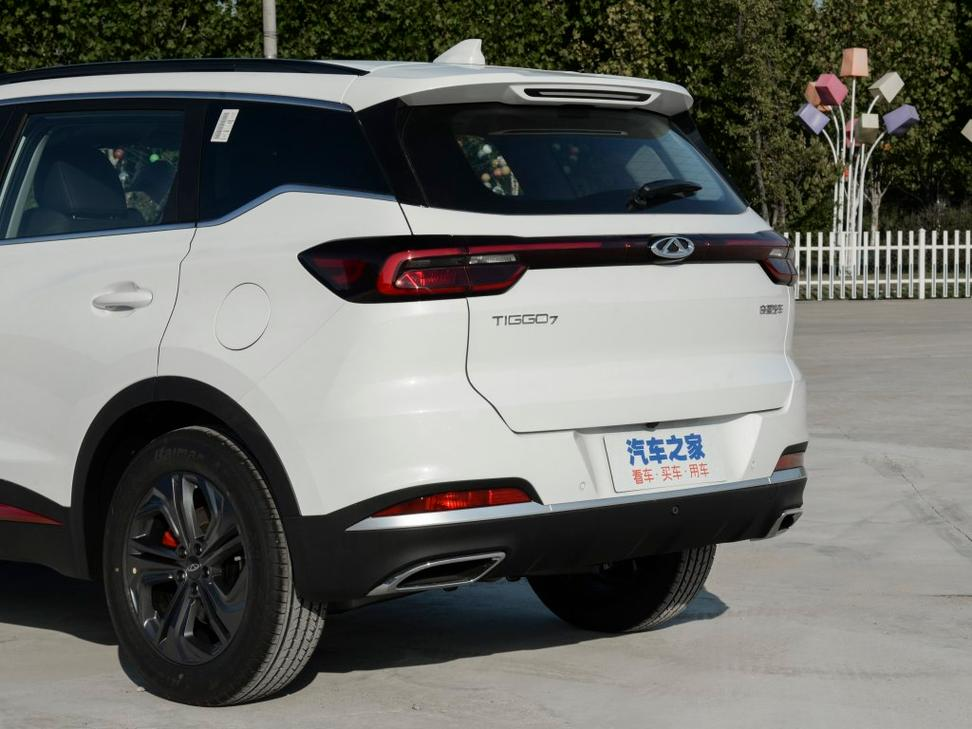汽车: (1, 36, 847, 711)
